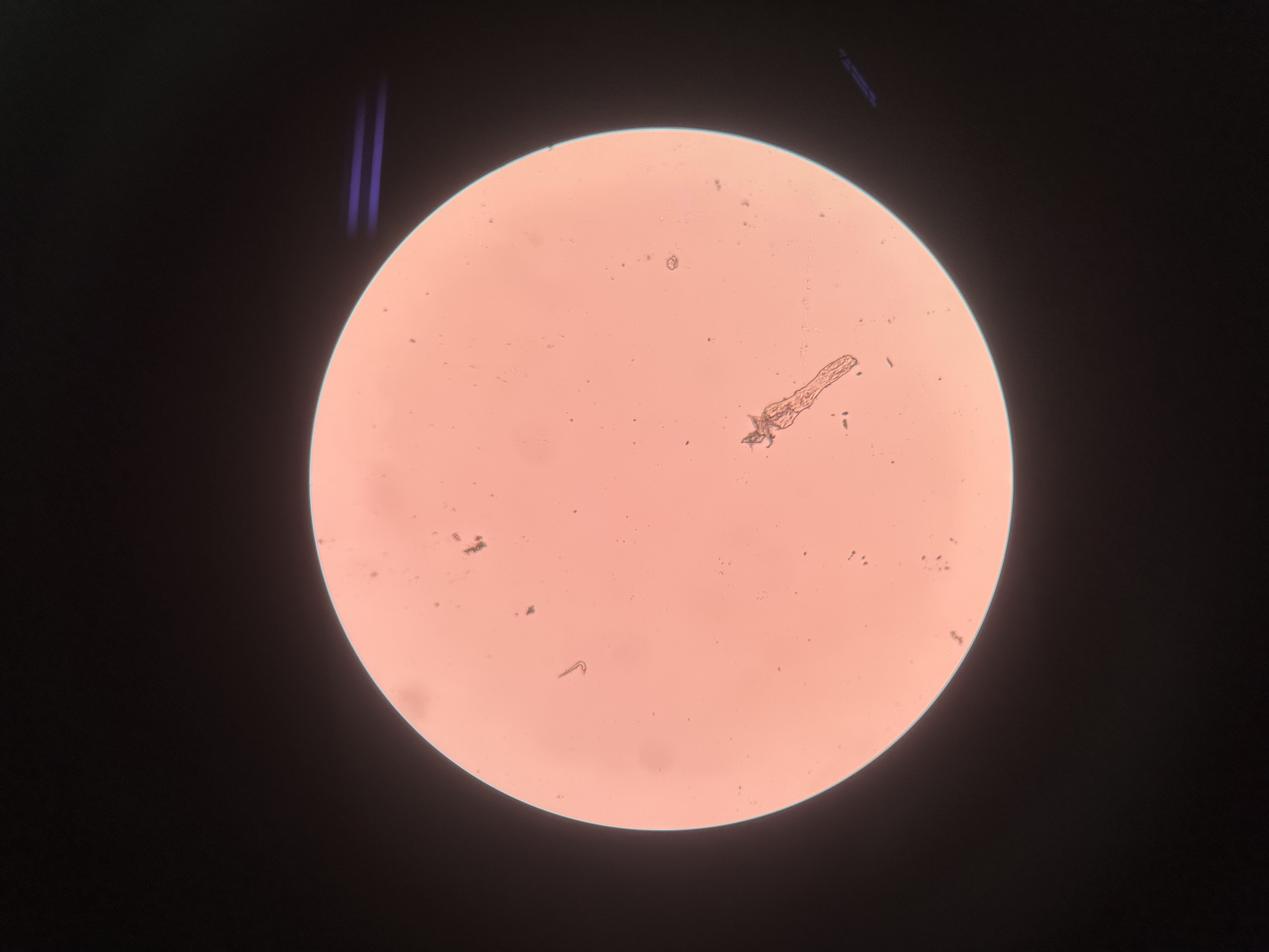microplastic: (740, 354, 860, 452), (452, 532, 492, 557), (557, 659, 593, 681), (524, 599, 539, 616), (664, 255, 679, 269)
